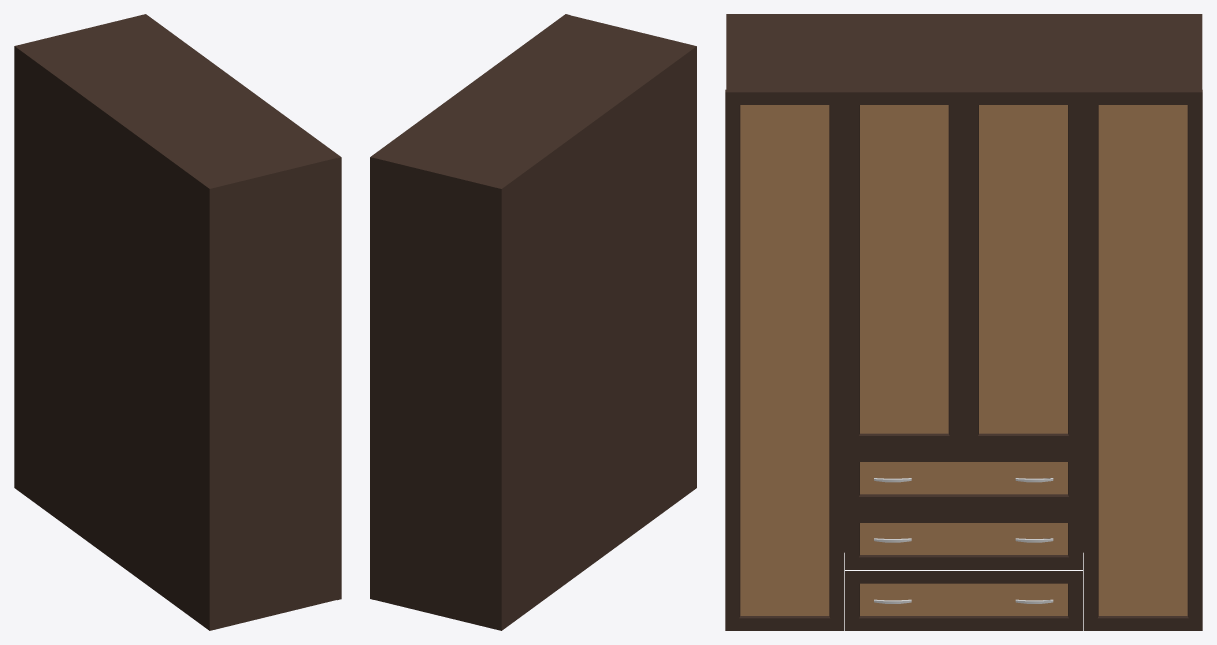
The model's file is cabinetA.fbx.
The picture shows the model from 3 angles, left to right: view 1: azimuth 30°, elevation 25°; view 2: azimuth 150°, elevation 25°; view 3: azimuth 270°, elevation 25°; orthographic projection. The views are drawn at different scales.
Visible parts, largest first — view 1: cabinetA; view 2: cabinetA; view 3: cabinetA.
Part boxes in pixels (x1,y1,x2,y2): cabinetA: (14, 14, 341, 630); cabinetA: (370, 14, 696, 630); cabinetA: (725, 14, 1202, 630).
Bounding box in the file's own units: 0.4183 × 1.32 × 1.06.
